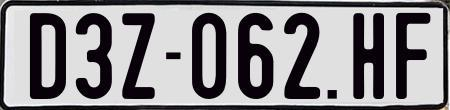0: (191, 12, 228, 104)
2: (283, 12, 325, 100)
3: (74, 13, 113, 104)
6: (238, 10, 273, 98)
D: (30, 12, 66, 102)
F: (393, 12, 432, 101)
H: (350, 11, 381, 98)
Z: (119, 11, 158, 100)
